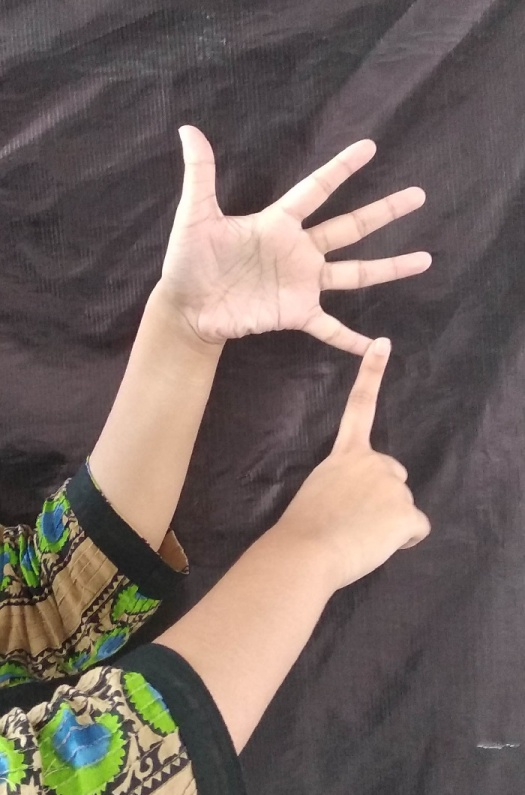i: (161, 110, 431, 493)
